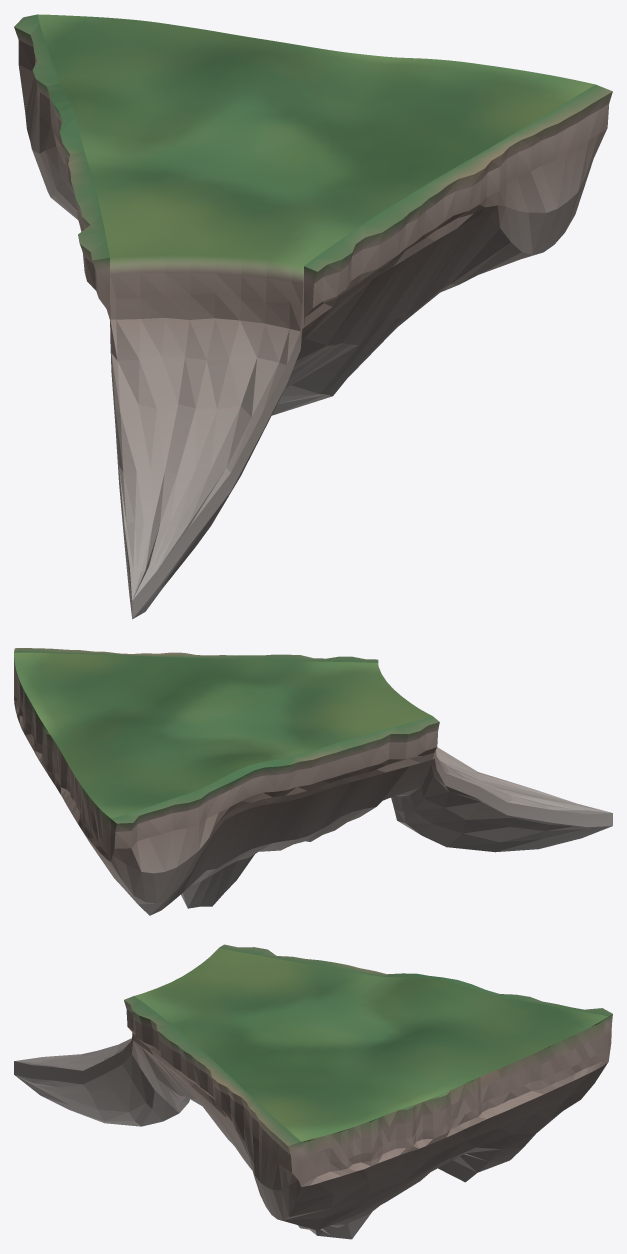
Rendered from piece_grove.glb.
3 views of the same model, one above another, from view 1: azimuth 30°, elevation 25°; view 2: azimuth 150°, elevation 25°; view 3: azimuth 270°, elevation 25° (orthographic). The views are drawn at different scales.
Visible parts, largest first — view 1: piece_grove, skirt_islet, skirt_orchard; view 2: piece_grove, skirt_orchard, skirt_islet; view 3: piece_grove, skirt_islet, skirt_orchard.
Boxes of the visible parts, x1,y1,x2,y2 form: piece_grove: (37, 14, 595, 619); skirt_islet: (304, 84, 612, 327); skirt_orchard: (14, 14, 109, 319); piece_grove: (14, 652, 612, 915); skirt_orchard: (111, 716, 439, 903); skirt_islet: (14, 648, 378, 662); piece_grove: (14, 948, 608, 1239); skirt_islet: (124, 996, 301, 1220); skirt_orchard: (219, 944, 612, 1060).
Size of the model in its own units: 22.61 by 9.23 by 23.98.
